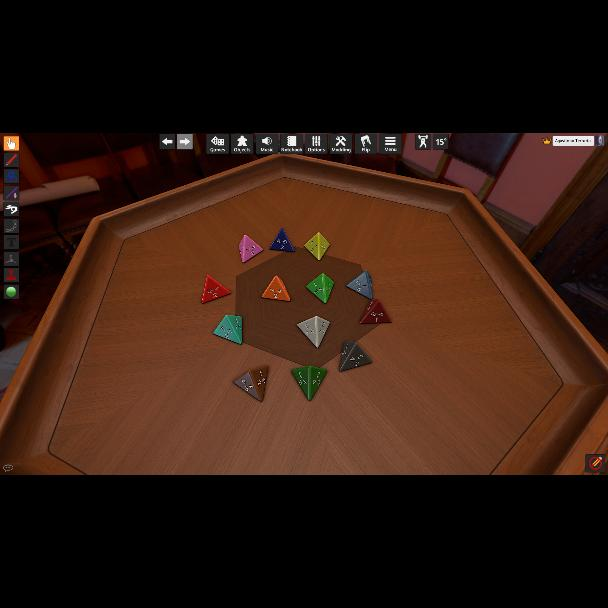d4: (231, 365, 267, 402), (290, 365, 326, 401), (297, 316, 329, 348), (340, 341, 372, 371), (212, 315, 242, 345), (306, 274, 334, 304), (261, 276, 291, 302), (202, 274, 228, 304), (360, 300, 390, 325), (345, 272, 371, 300), (238, 234, 262, 264), (269, 228, 295, 254), (305, 233, 329, 261)
